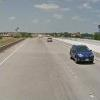Car: (67, 43, 95, 66)
